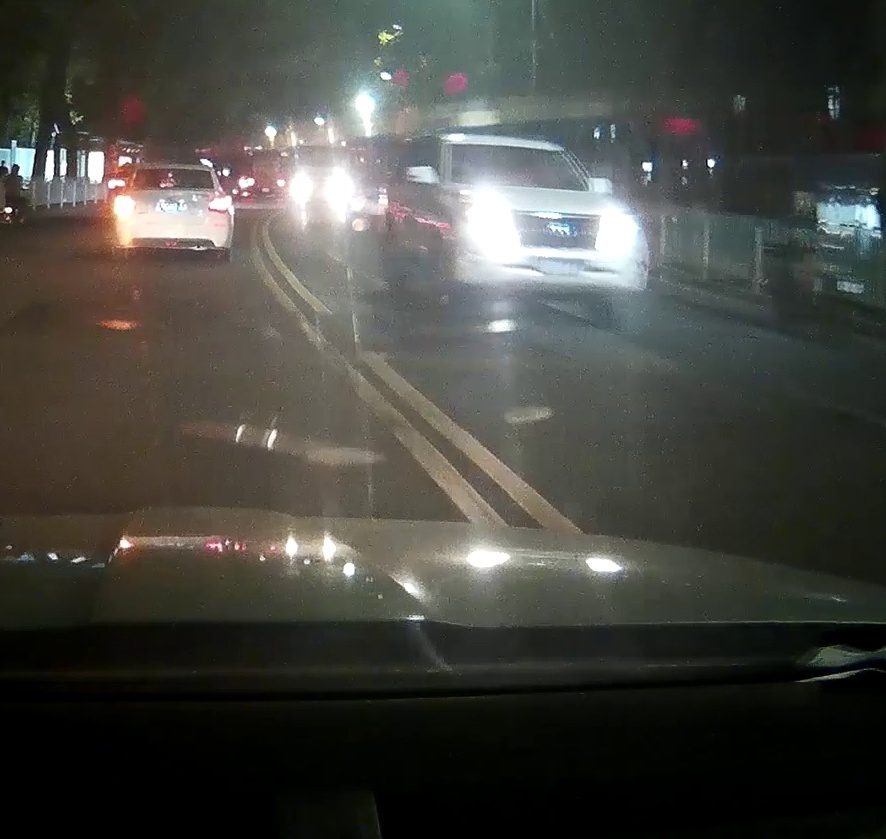L_light: (114, 197, 135, 214)
R_light: (209, 196, 232, 212)
T_light: (161, 182, 176, 188)
night-left: (110, 158, 238, 260)
